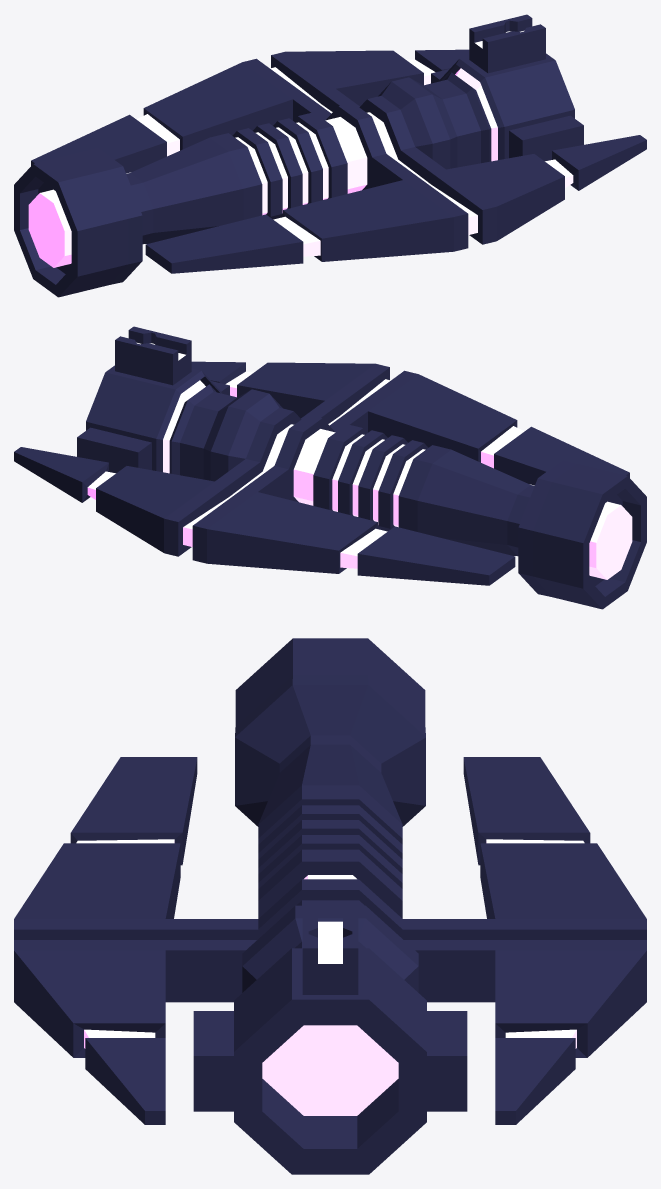
Rendered from Sharpshooter_1.fbx.
The picture shows the model from 3 angles, top to bottom: view 1: azimuth 30°, elevation 25°; view 2: azimuth 150°, elevation 25°; view 3: azimuth 270°, elevation 25°; orthographic projection. The views are drawn at different scales.
Parts seen in each view (by area): view 1: Cube; view 2: Cube; view 3: Cube.
Part boxes in pixels (left/top/right/bottom): Cube: left=14, top=14, right=646, bottom=297; Cube: left=14, top=326, right=646, bottom=609; Cube: left=14, top=638, right=646, bottom=1174.
Size of the model in its own units: 316 by 83.11 by 215.
